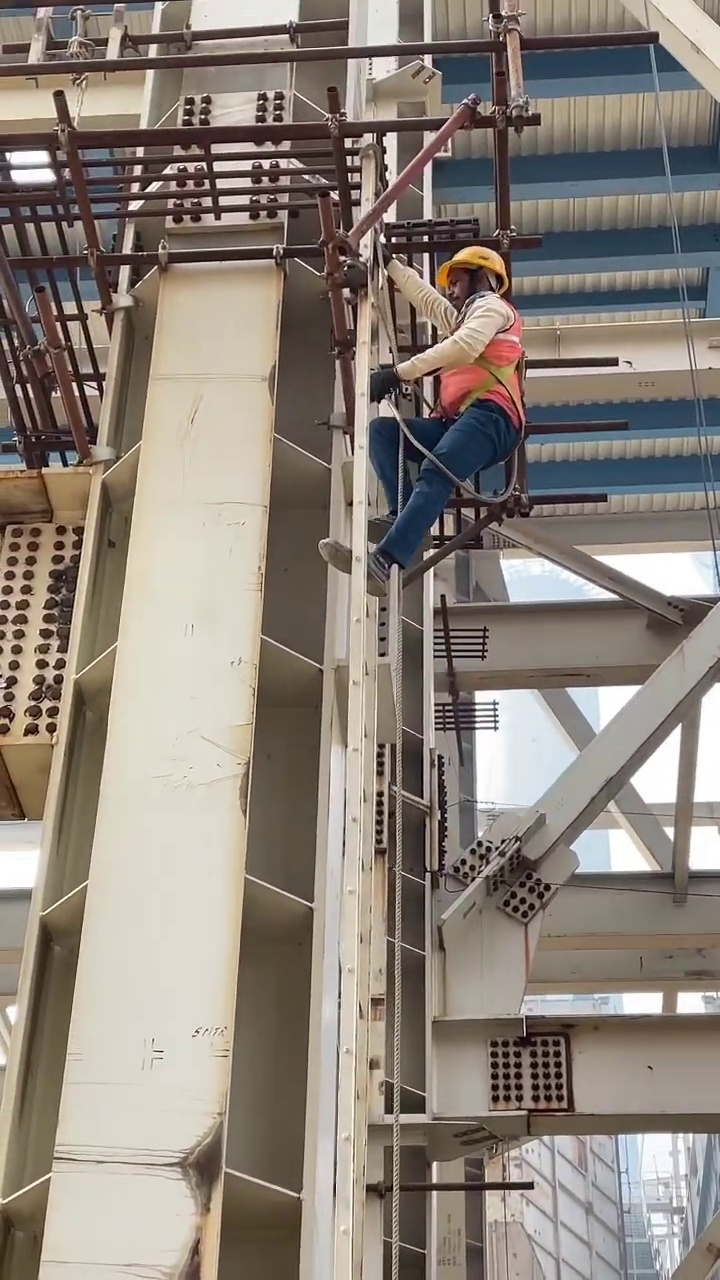Helmet: (438, 243, 511, 281)
Person: (306, 241, 525, 595)
Safety_Harness: (412, 290, 527, 501)
Safety_shoes: (316, 535, 389, 595), (366, 516, 433, 553)
